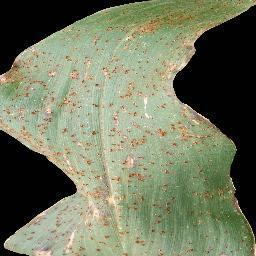Corn_Common_Rust: (91, 0, 175, 256), (175, 93, 239, 256), (35, 13, 90, 179), (0, 200, 91, 256), (0, 44, 35, 151), (174, 22, 222, 74), (175, 0, 256, 23), (239, 202, 256, 256), (58, 179, 91, 201)
